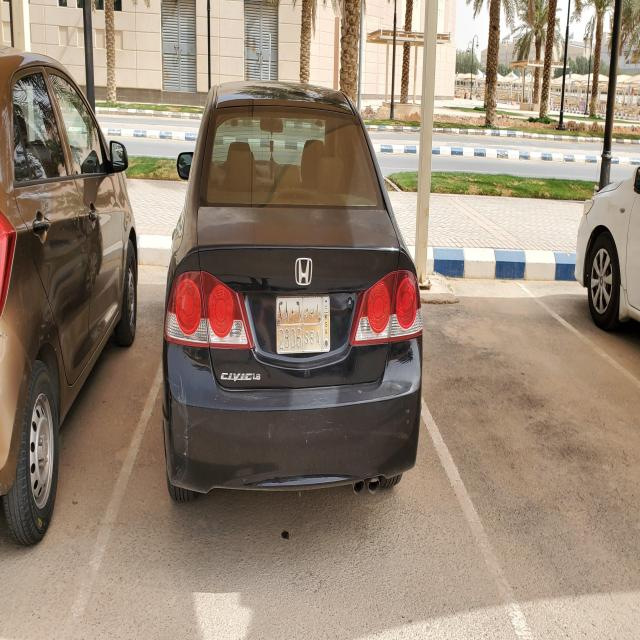license_plate: (276, 294, 331, 354)
